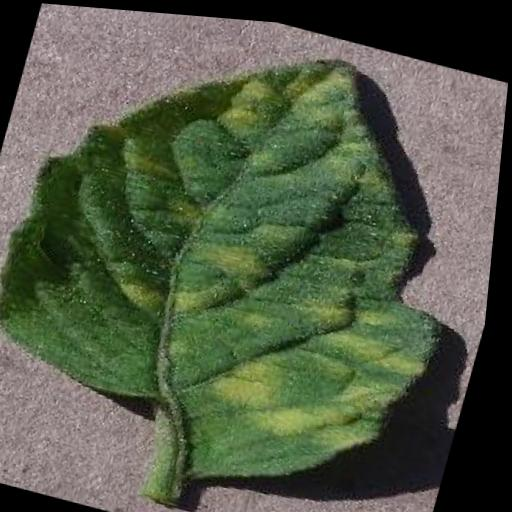Leaf Mold: (0, 0, 503, 512)
